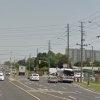Car: (28, 70, 42, 87)
